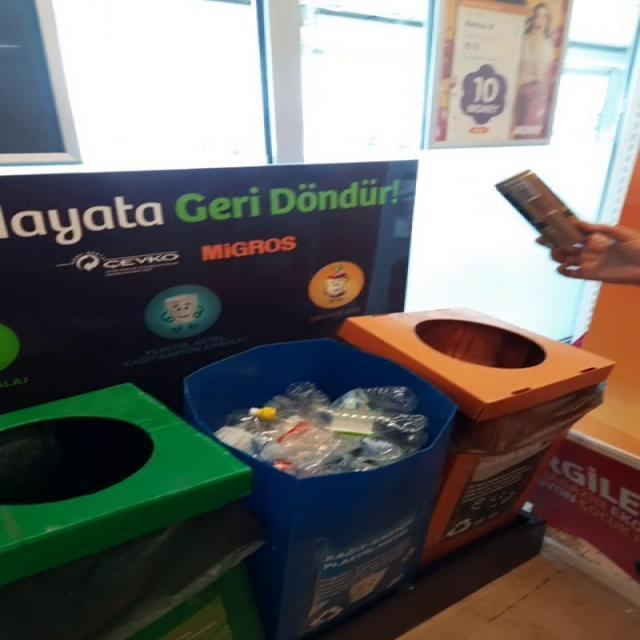Metal: (496, 170, 588, 248)
